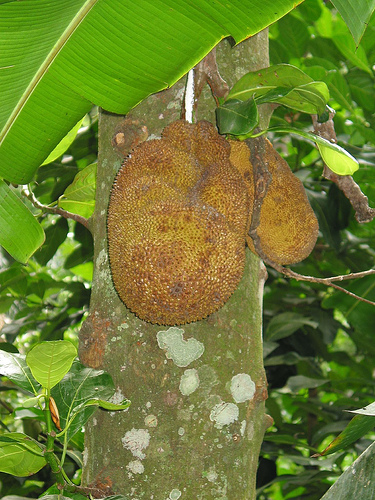jackfruit: (105, 120, 248, 327), (248, 122, 320, 267)
